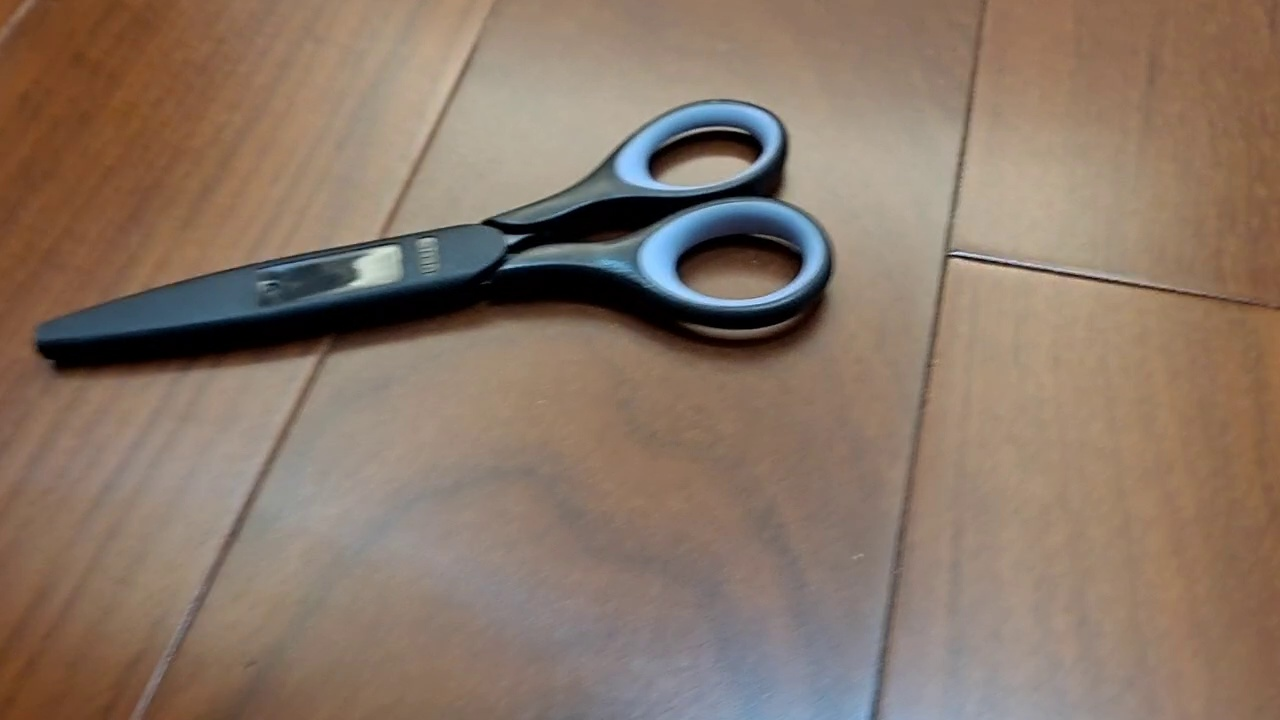scissors: (31, 96, 839, 375)
